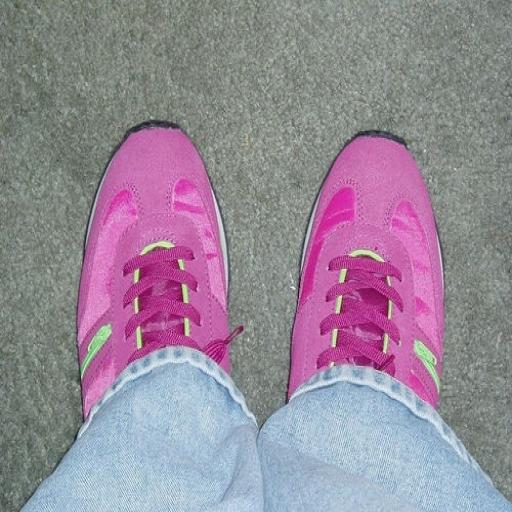shoe: (77, 121, 232, 418), (288, 132, 443, 407)
